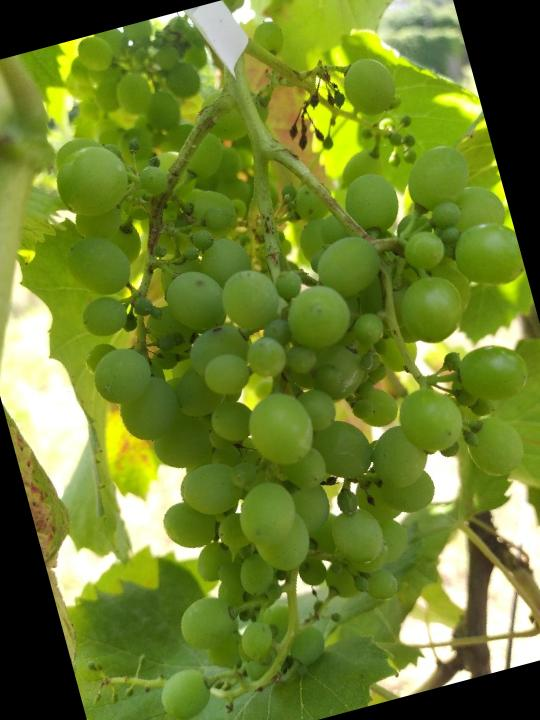grape: (8, 33, 540, 720)
